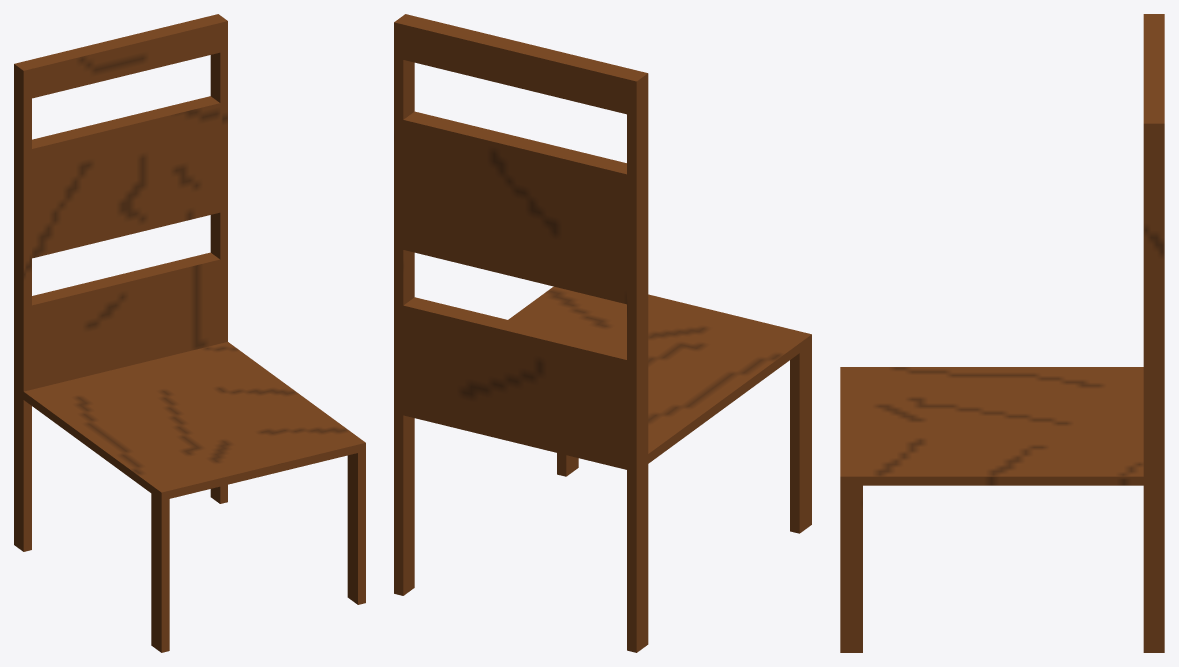
Rendered from sandalye.obj.
3 views of the same model, side by side, from view 1: azimuth 30°, elevation 25°; view 2: azimuth 150°, elevation 25°; view 3: azimuth 270°, elevation 25° (orthographic). The views are drawn at different scales.
Visible parts, largest first — view 1: cube; view 2: cube; view 3: cube.
Part boxes in pixels (<box>): cube: <box>14,14,365,652</box>; cube: <box>394,14,811,652</box>; cube: <box>840,14,1164,652</box>.
Size of the model in its own units: 0.5 by 1.12 by 0.625.
